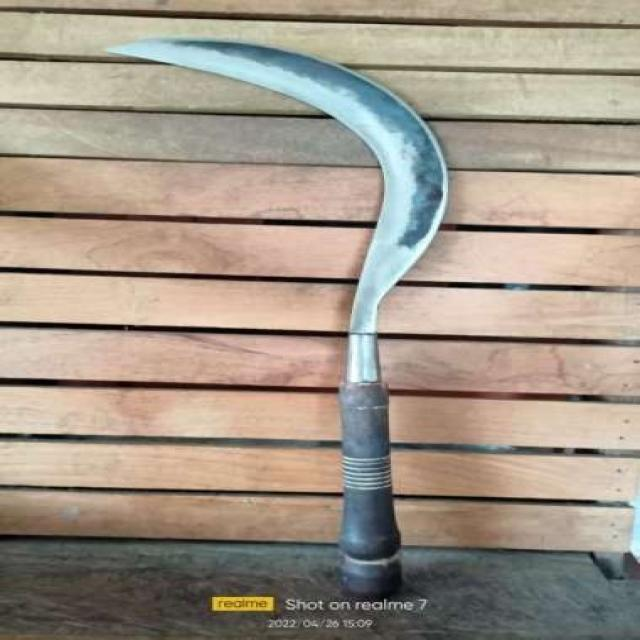Celurit: (102, 37, 454, 597)
